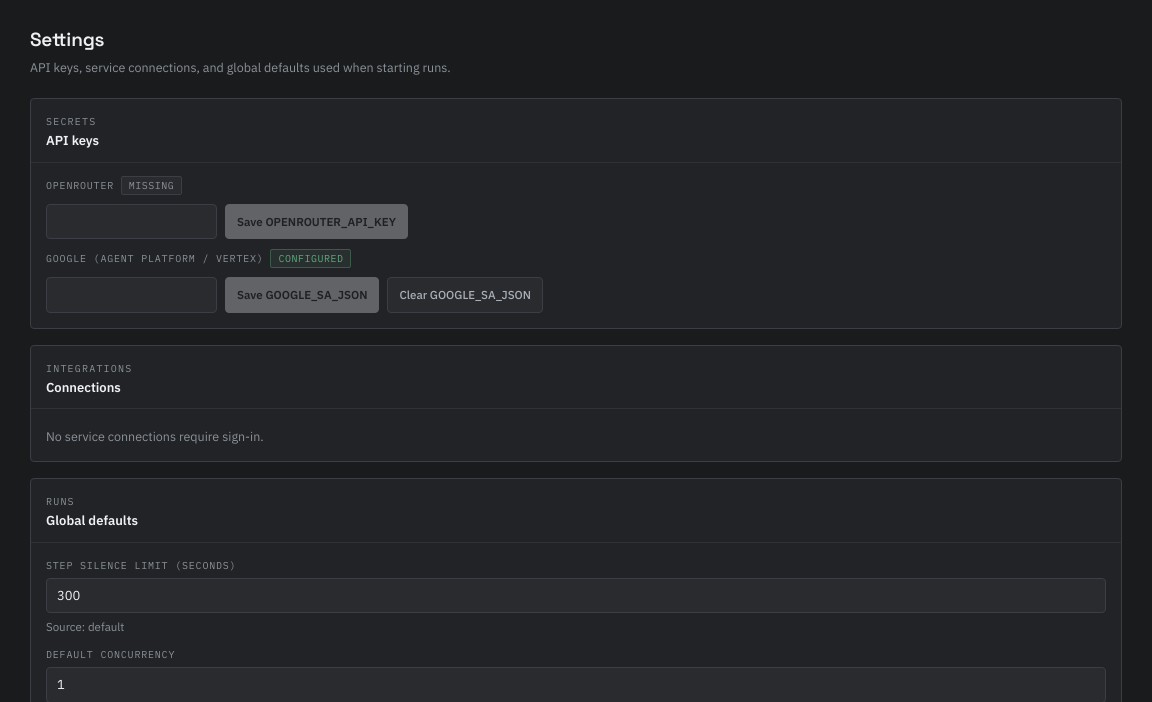
Test: SettingsView › a failed save surfaces an error instead of swallowing it
Expected: the text "OpenRouter" is shown, [46,179,114,192]
In the password field named "Set OPENROUTER_API_KEY": (132, 222) [46,204,217,239], type "sk-x"
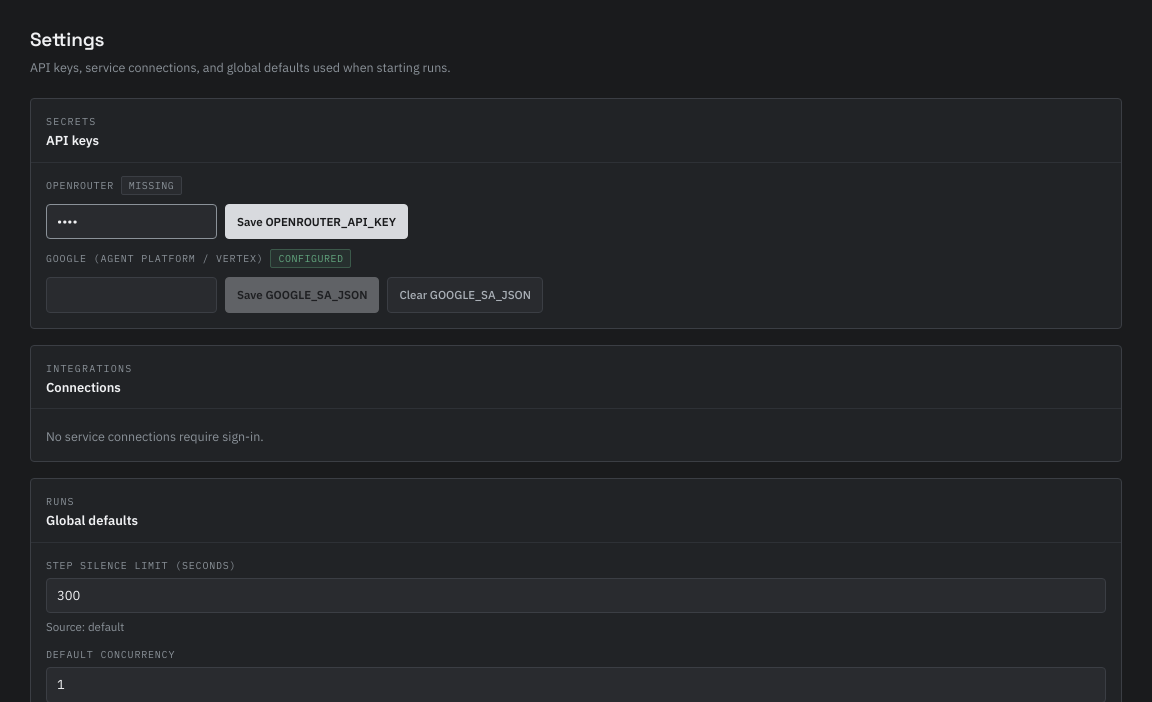
Click the button "Save OPENROUTER_API_KEY": (316, 222) [225,204,408,239]
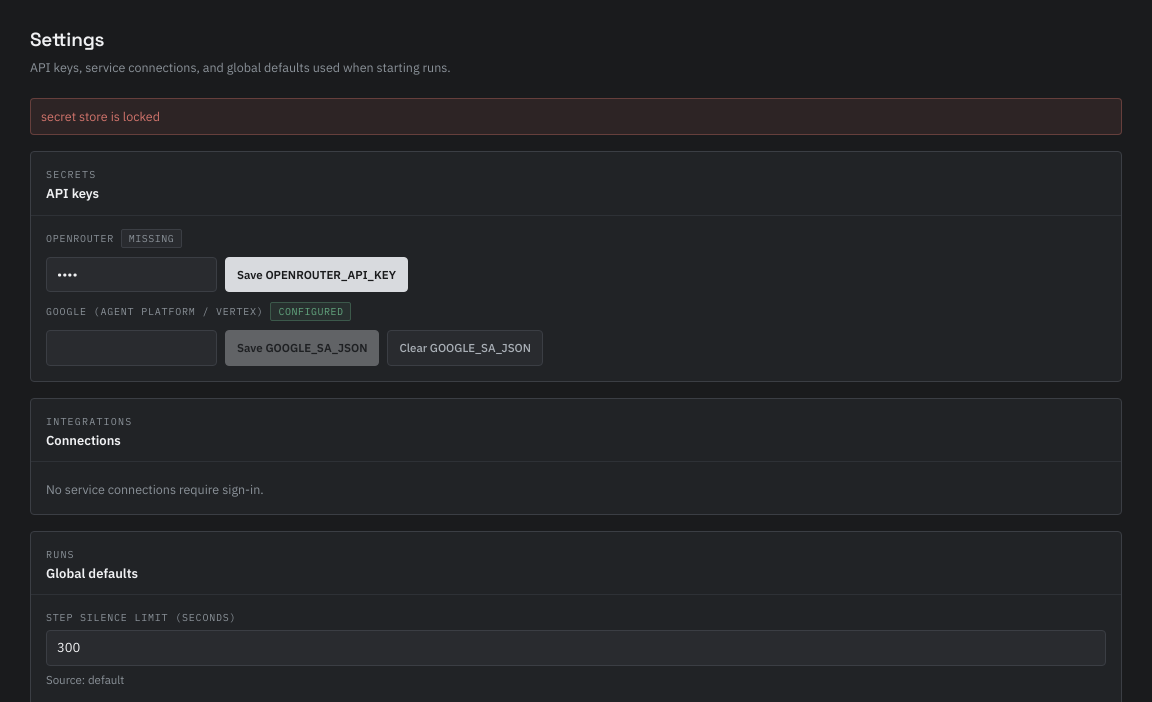
Expected: the text "secret store is locked" is shown, [30,98,1122,135]
